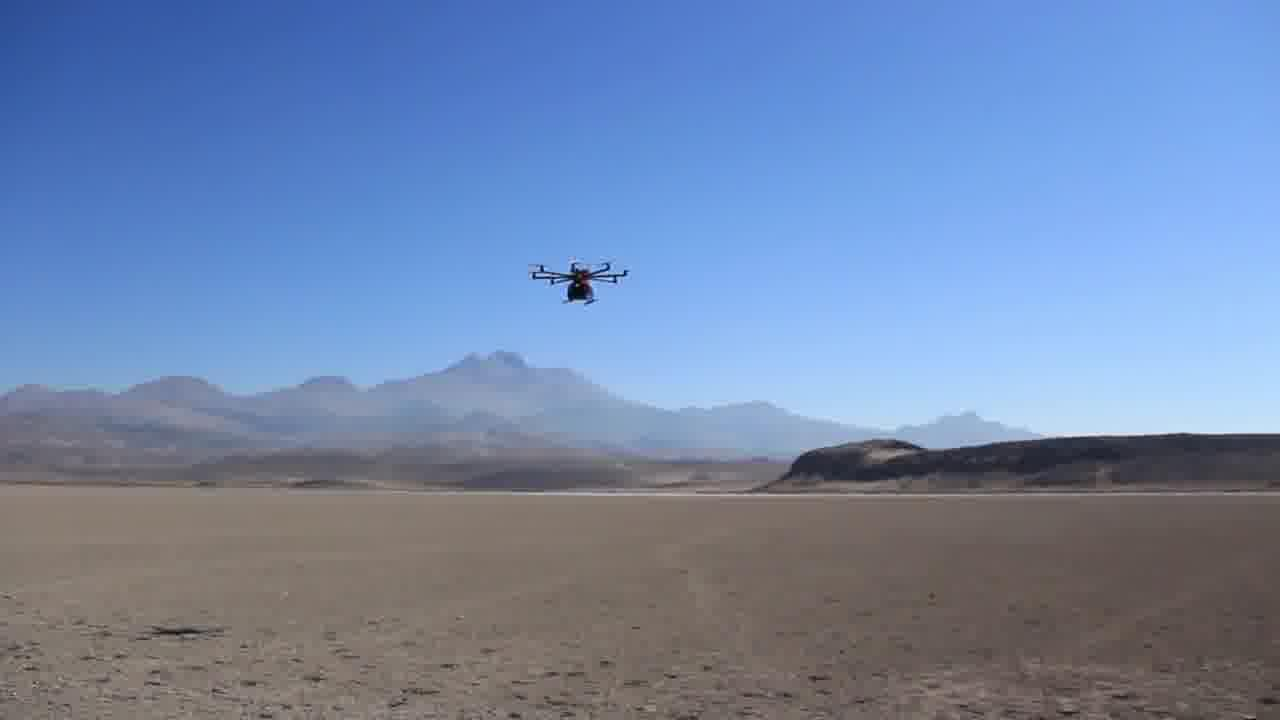drone: (523, 253, 637, 309)
